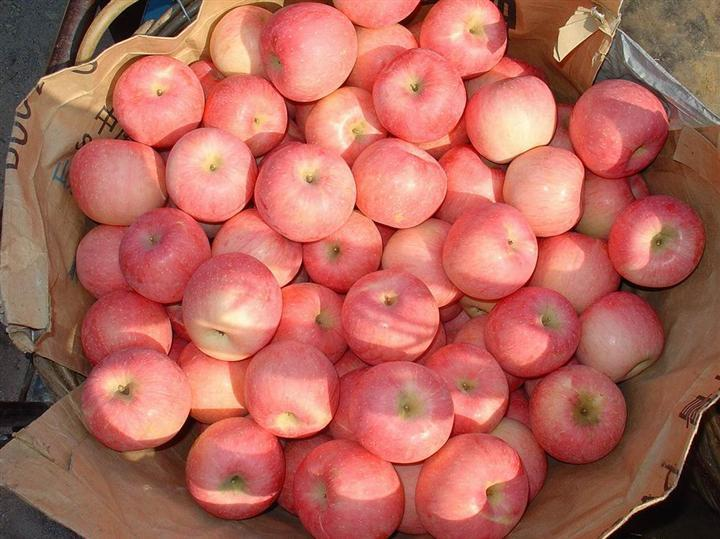apple: (413, 431, 527, 537), (78, 349, 191, 452), (180, 251, 282, 362), (347, 360, 455, 464), (291, 438, 405, 536), (254, 141, 358, 246), (185, 416, 286, 521), (568, 77, 671, 179), (528, 366, 628, 467), (340, 265, 438, 363), (239, 336, 337, 434), (608, 191, 707, 288), (262, 2, 358, 102), (66, 136, 170, 225), (481, 284, 580, 375), (115, 208, 211, 301), (441, 205, 539, 296), (350, 137, 448, 228), (113, 53, 206, 148), (167, 126, 259, 219), (417, 342, 508, 436), (464, 73, 559, 162), (575, 291, 662, 383), (503, 145, 586, 237), (201, 73, 287, 161), (527, 229, 623, 307), (419, 1, 509, 80)
